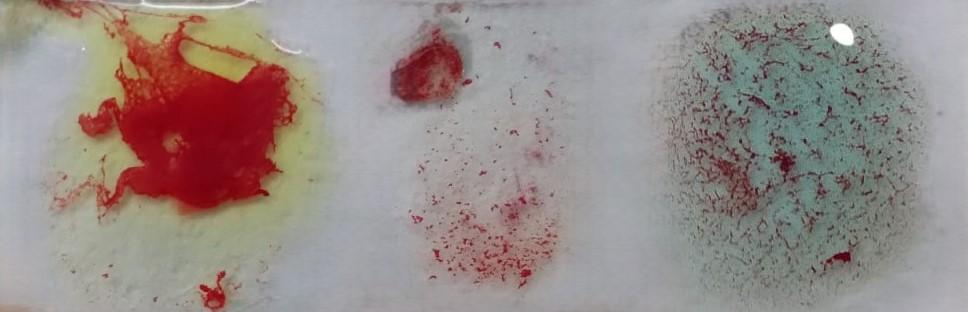A: (669, 13, 924, 311)
B: (73, 11, 323, 312)
D: (397, 1, 568, 301)
